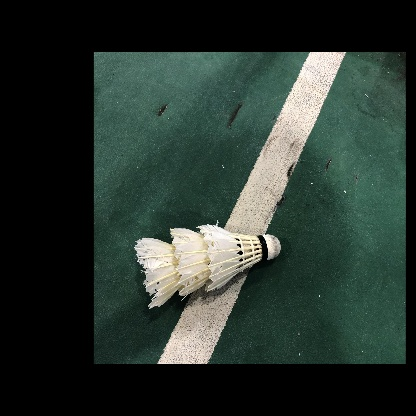ball_single: (134, 224, 281, 309)
